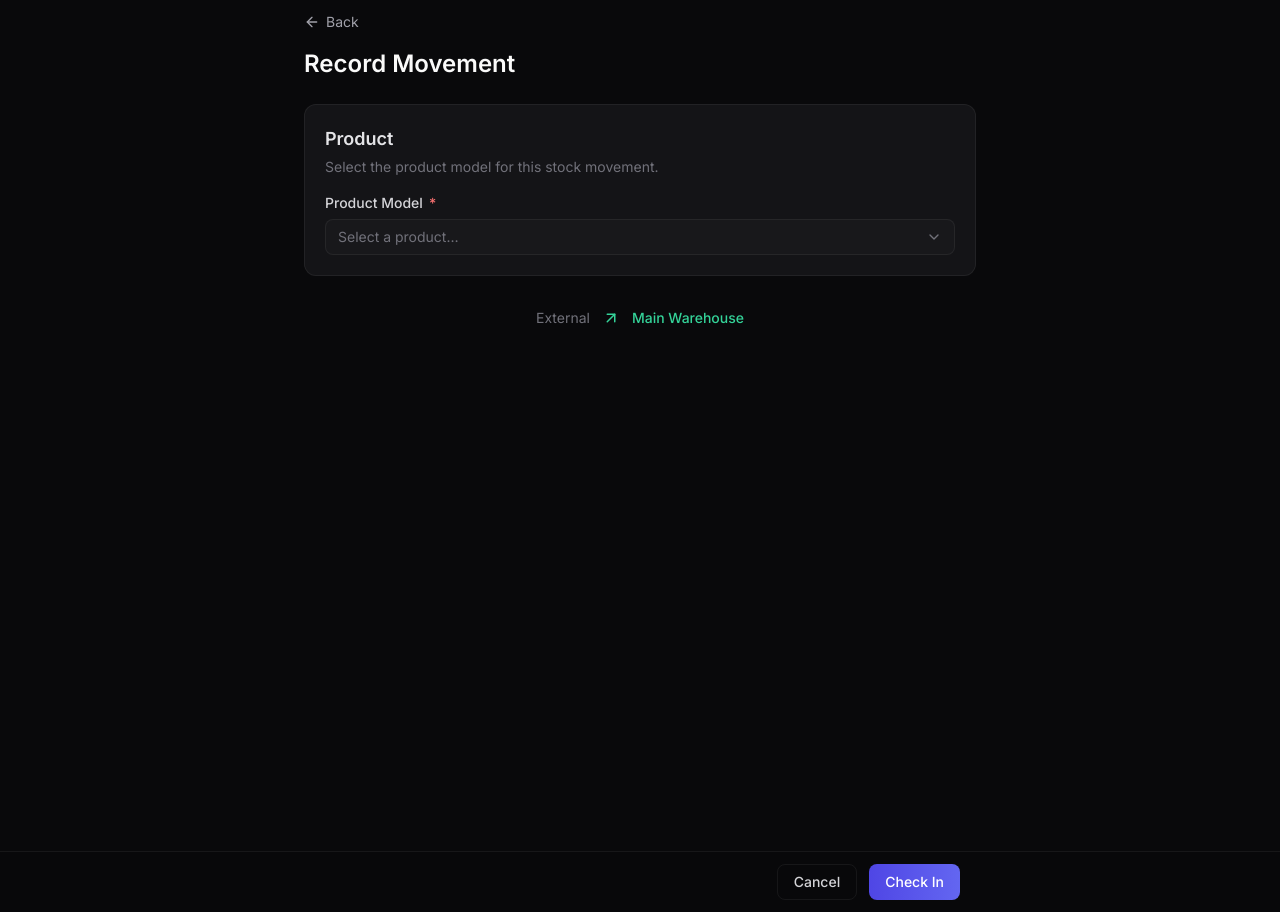
Test: MovementCreate — per-profile gating (PRESET-LOGIC-07) › SIMPLE_COUNT: shows quantity, no batch / serial sections
Step 1. Click the dropdown → (398, 236), box x1=325 y1=219 x2=955 y2=255
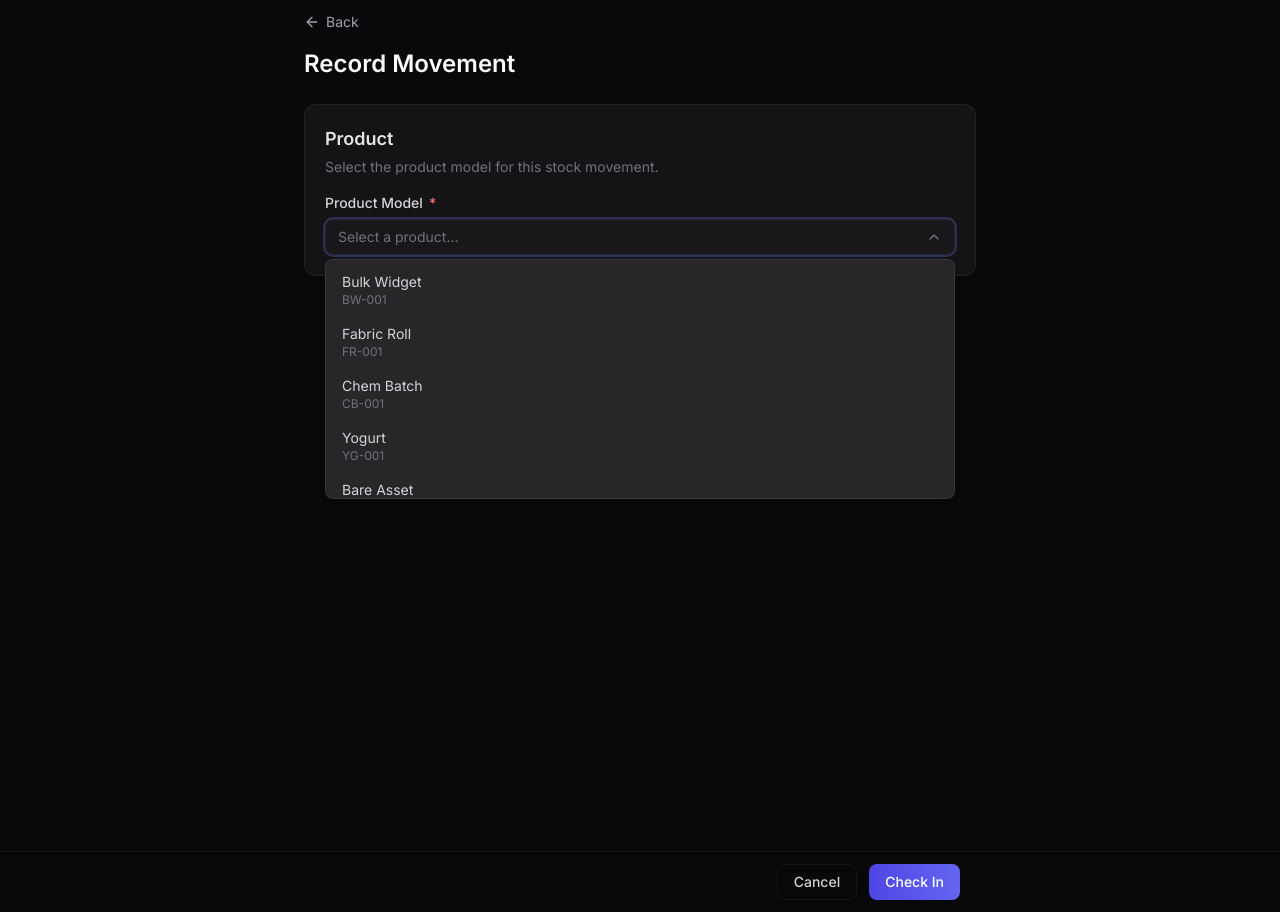
Step 2. Click the text "Bulk Widget" → (382, 282), box x1=342 y1=272 x2=422 y2=292
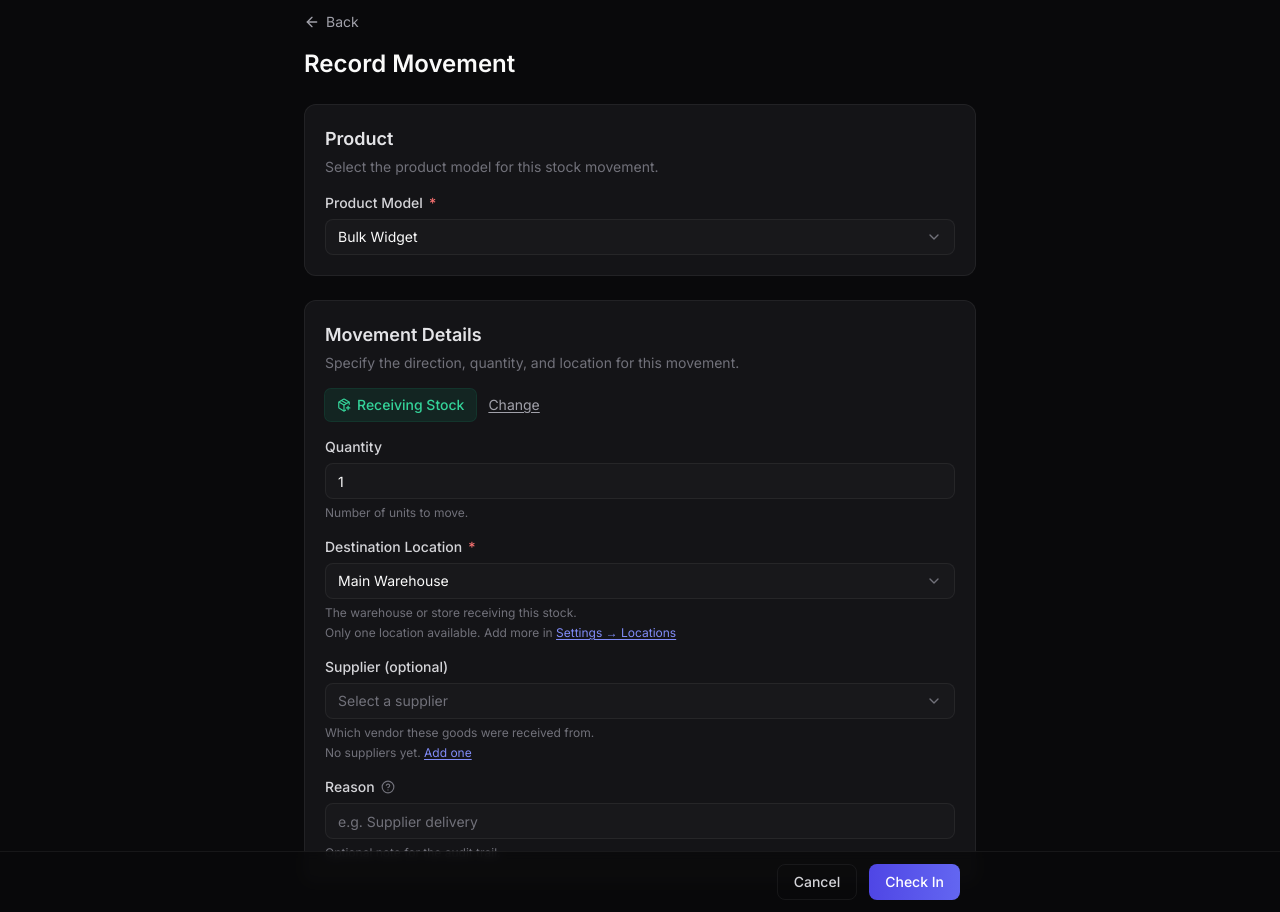
Expected: the number field labelled "Quantity" is shown, x1=325 y1=463 x2=955 y2=499
